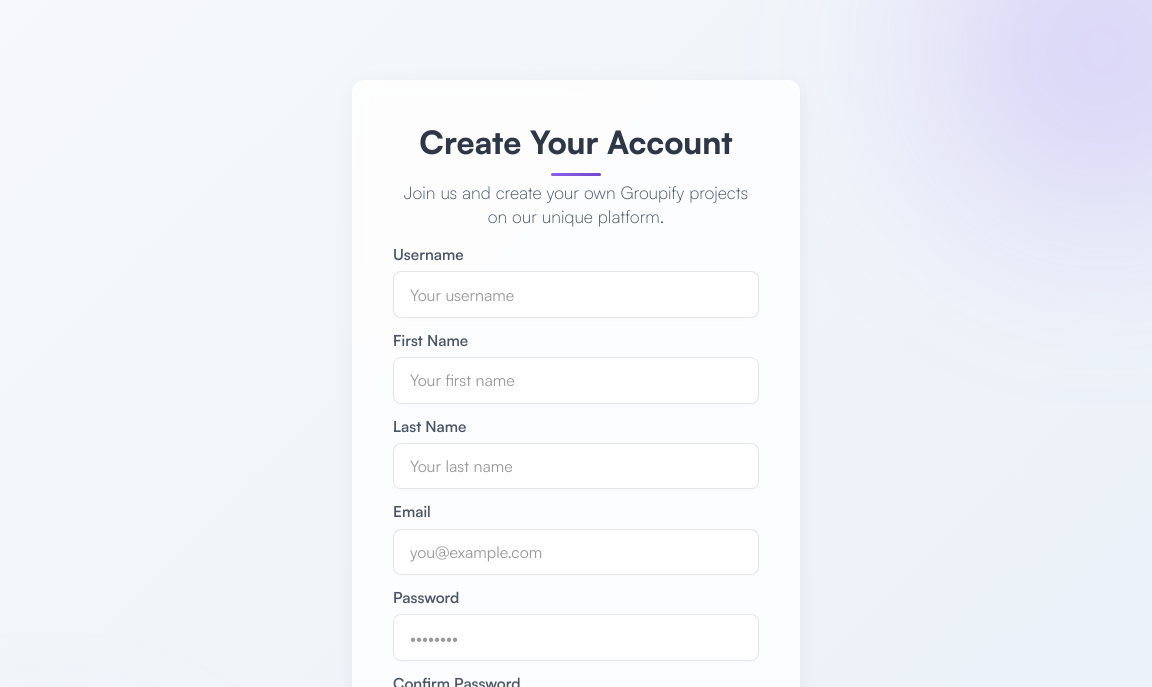
Scenario: SignupPage › shows error from server on registration failure
This screenshot has width=1152, height=687.
Type "testuser" into the field labelled "Username".
click(576, 295); type("testuser")  # box x1=393 y1=271 x2=759 y2=318
Type "Test" into the field labelled "First Name".
click(576, 380); type("Test")  # box x1=393 y1=357 x2=759 y2=404
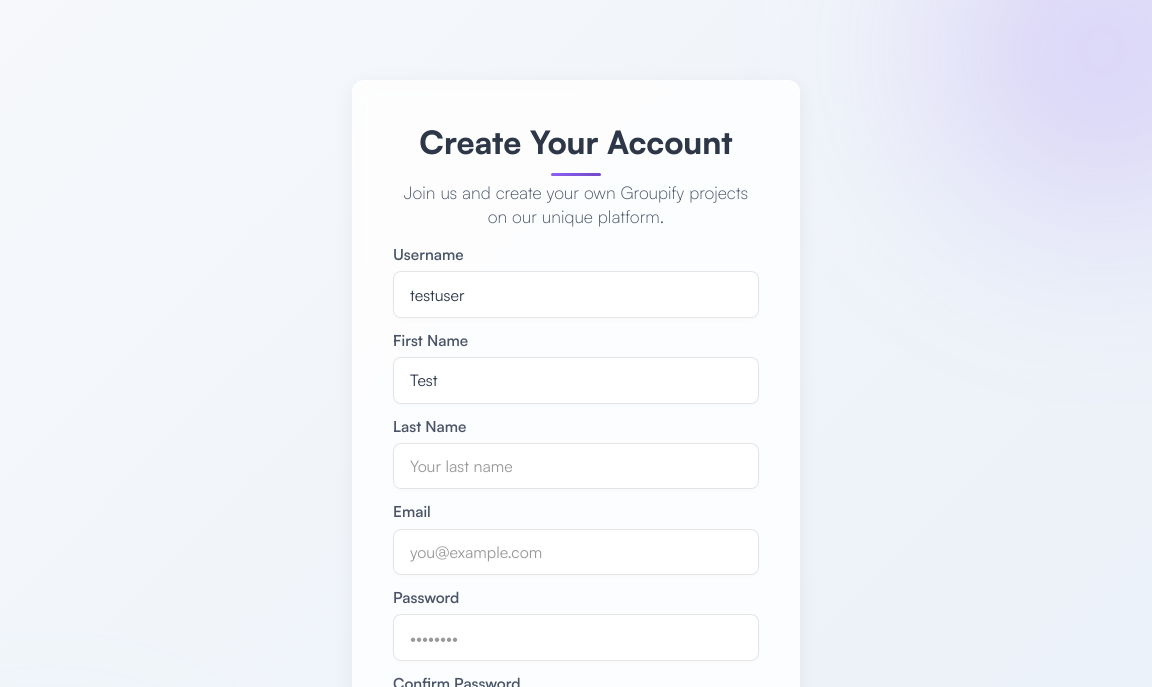
Type "User" into the field labelled "Last Name".
click(576, 466); type("User")  # box x1=393 y1=443 x2=759 y2=489
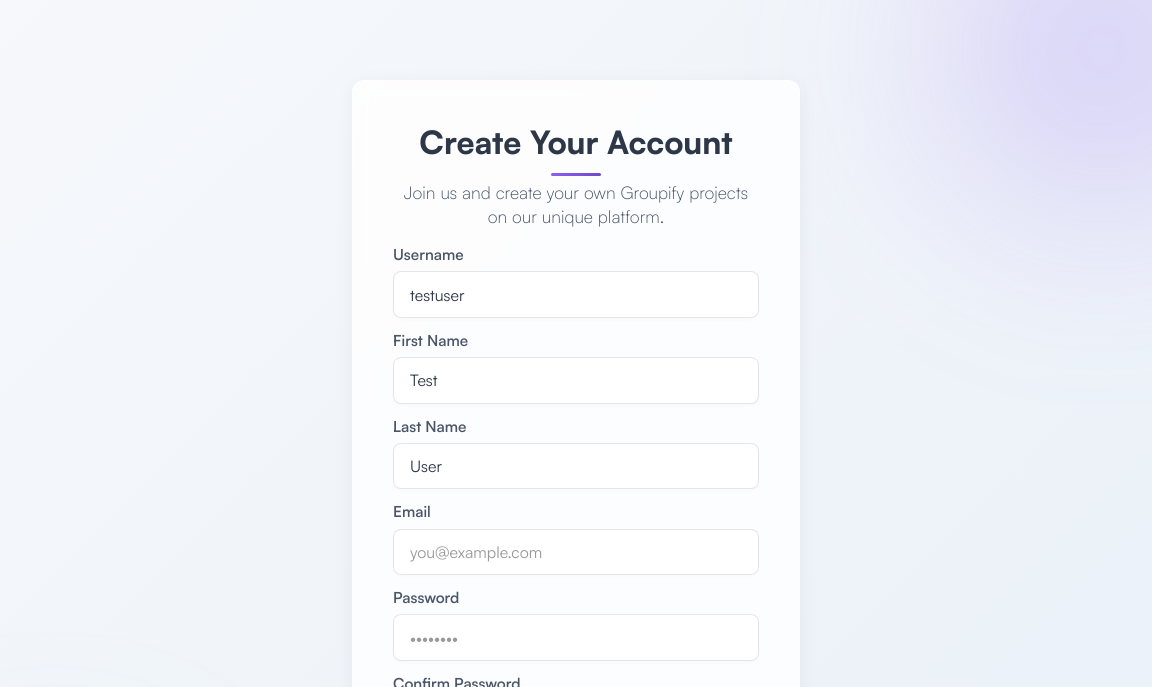
Type "test@example.com" into the field labelled "Email".
click(576, 552); type("test@example.com")  # box x1=393 y1=529 x2=759 y2=575
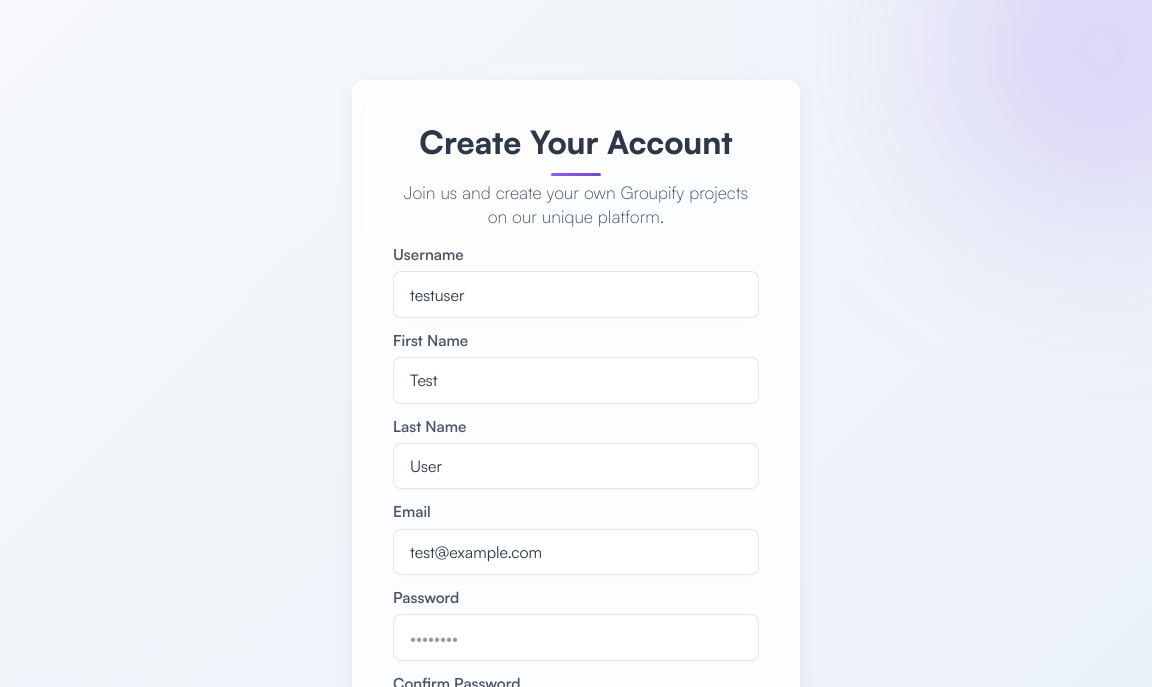
Type "P@ssw0rd!" into the password field labelled "Password".
click(576, 638); type("P@ssw0rd!")  # box x1=393 y1=614 x2=759 y2=661
(page scrolled)
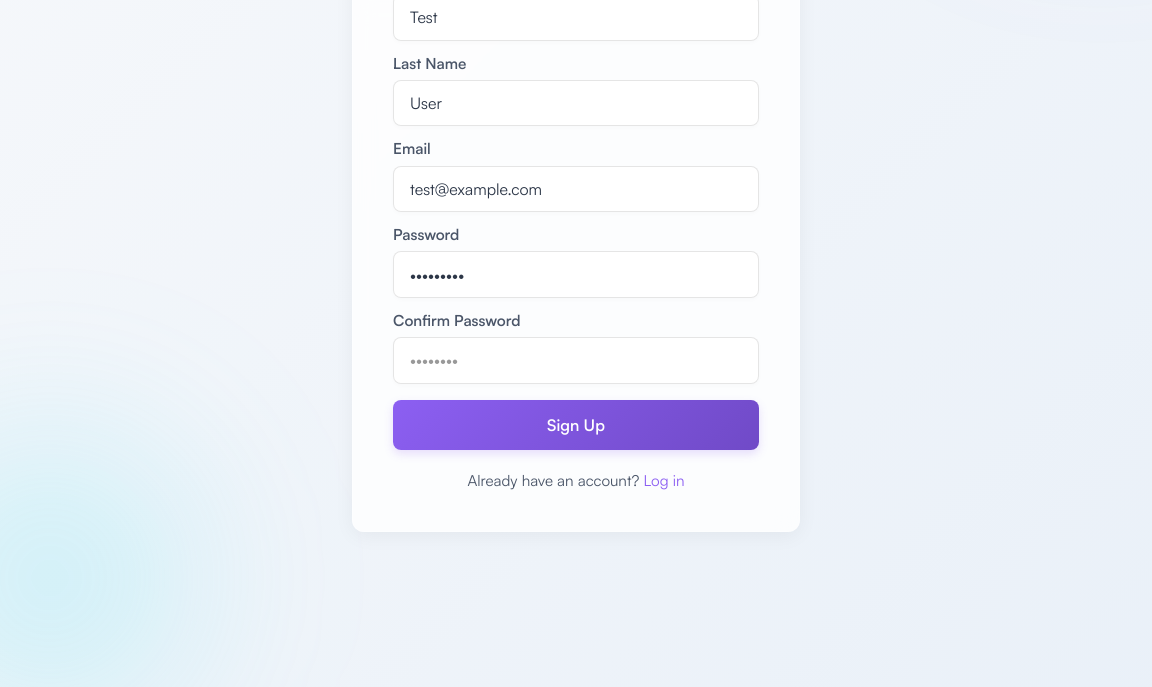
Type "P@ssw0rd!" into the password field labelled "Confirm Password".
click(576, 360); type("P@ssw0rd!")  # box x1=393 y1=337 x2=759 y2=384
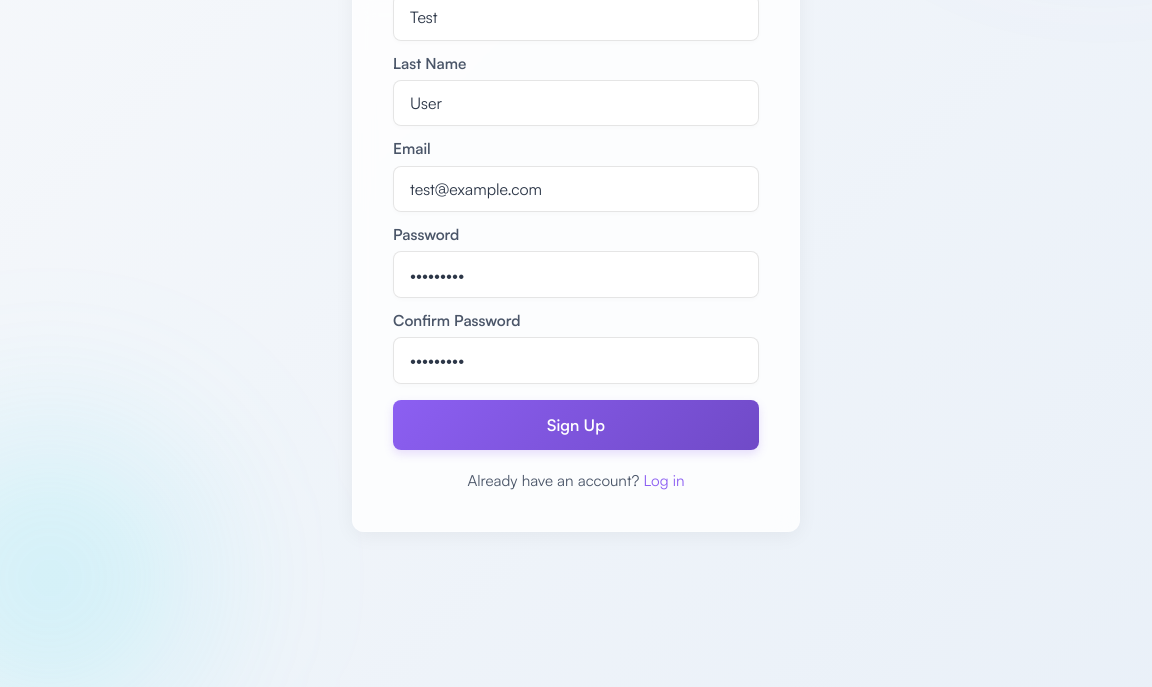
Click the button "Sign Up".
click(576, 425)  # box x1=393 y1=400 x2=759 y2=450
(page scrolled)
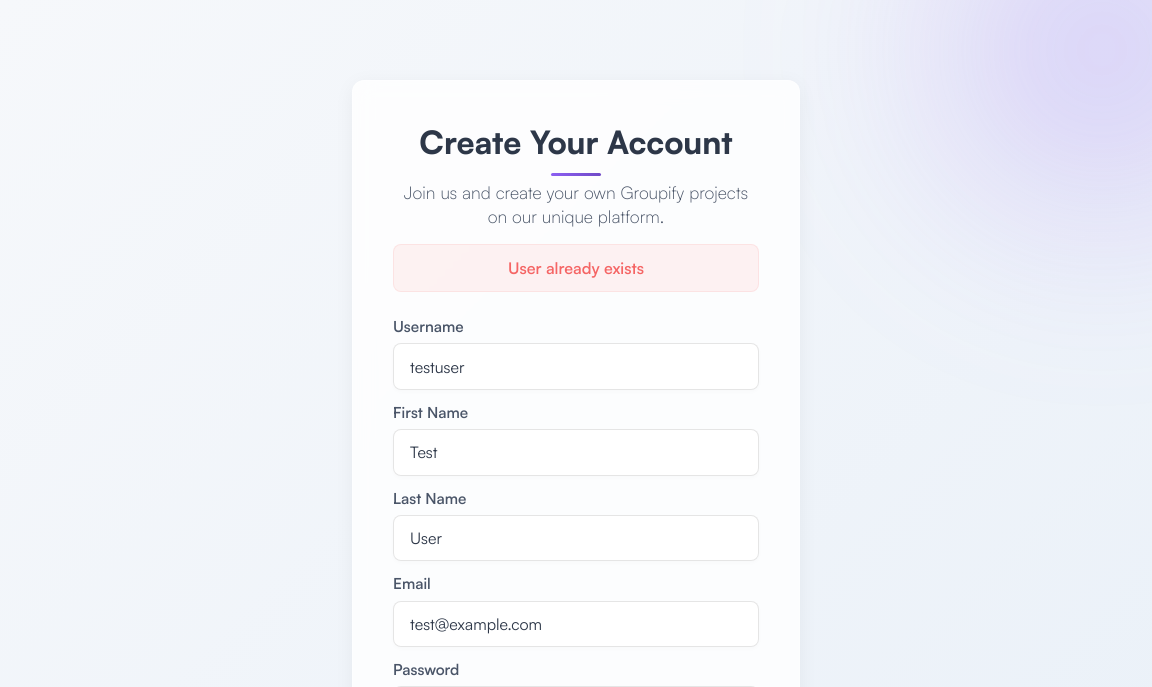
Expected: the text "User already exists" is shown, x1=393 y1=244 x2=759 y2=292
